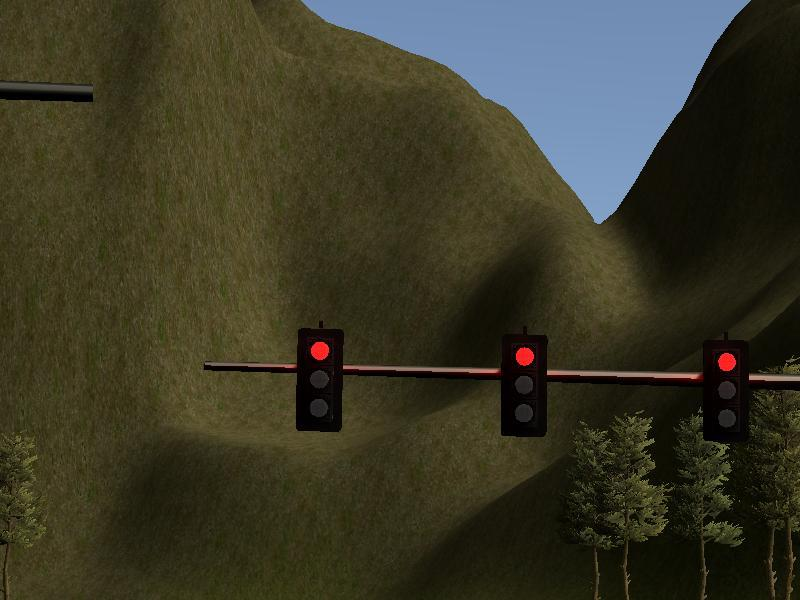Red: (702, 341, 748, 439), (502, 333, 545, 437), (298, 328, 341, 430)
